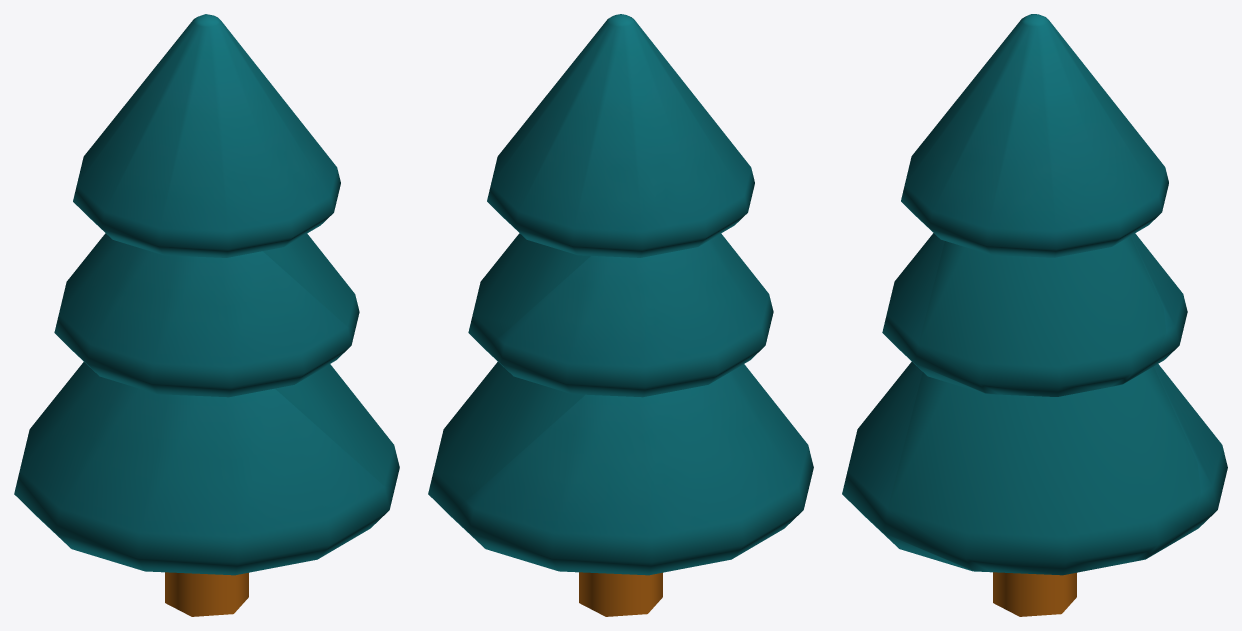
Rendered from tree.fbx.
3 renders of one model, left to right at view 1: azimuth 30°, elevation 25°; view 2: azimuth 150°, elevation 25°; view 3: azimuth 270°, elevation 25°, orthographic.
Parts seen in each view (by area): view 1: tree; view 2: tree; view 3: tree.
Part boxes in pixels (<box>): tree: <box>14,14,399,616</box>; tree: <box>428,14,813,616</box>; tree: <box>842,14,1227,616</box>.
Size of the model in its own units: 211 by 352 by 211.
